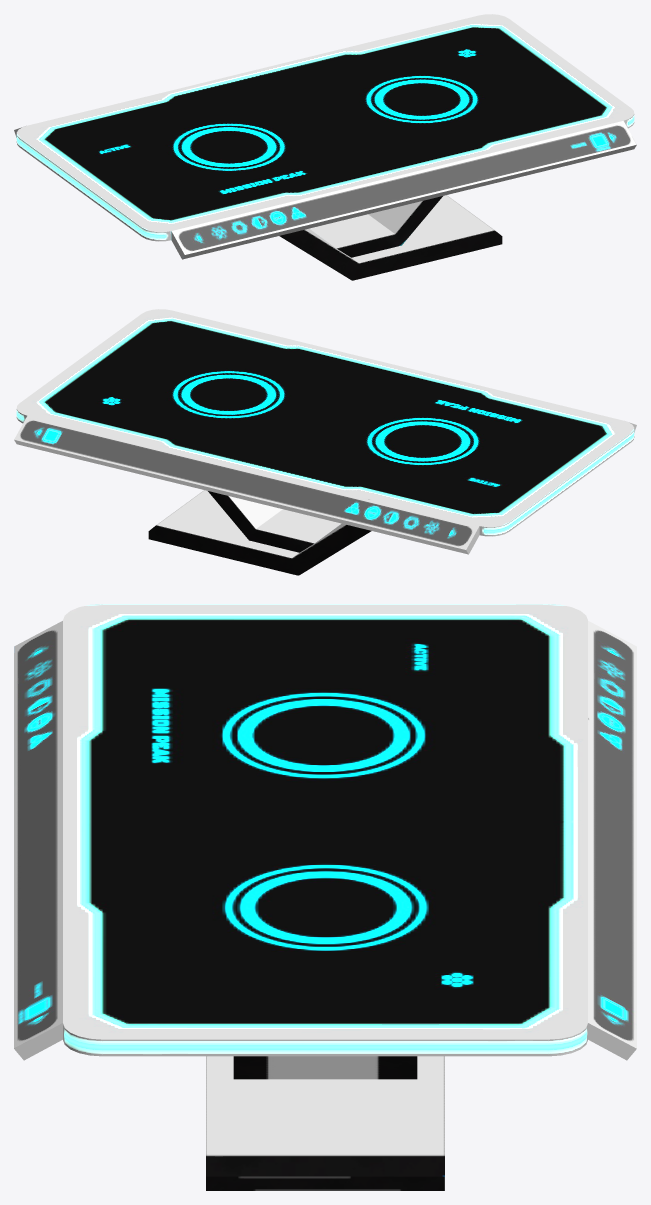
Rendered from table.glb.
3 renders of one model, top to bottom at view 1: azimuth 30°, elevation 25°; view 2: azimuth 150°, elevation 25°; view 3: azimuth 270°, elevation 25°, orthographic. The views are drawn at different scales.
Visible parts, largest first — view 1: polySurface1, pPlane7, pPlane8; view 2: polySurface1, pPlane7, pPlane8; view 3: polySurface1, pPlane7, pPlane8.
Part boxes in pixels (<box>): polySurface1: <box>14,14,636,259</box>; pPlane7: <box>279,195,502,280</box>; pPlane8: <box>309,196,442,257</box>; polySurface1: <box>14,309,636,554</box>; pPlane7: <box>148,490,371,575</box>; pPlane8: <box>208,491,341,552</box>; polySurface1: <box>14,604,636,1060</box>; pPlane7: <box>206,1056,444,1190</box>; pPlane8: <box>233,1056,417,1079</box>.
Size of the model in its own units: 0.1555 by 0.0401 by 0.094.
Materials: 1 (1 with a texture image).
